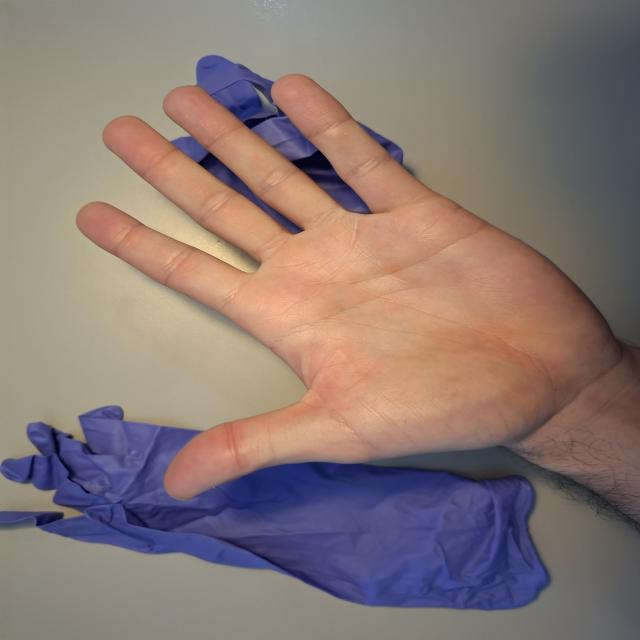glove_off: (76, 69, 623, 505)
